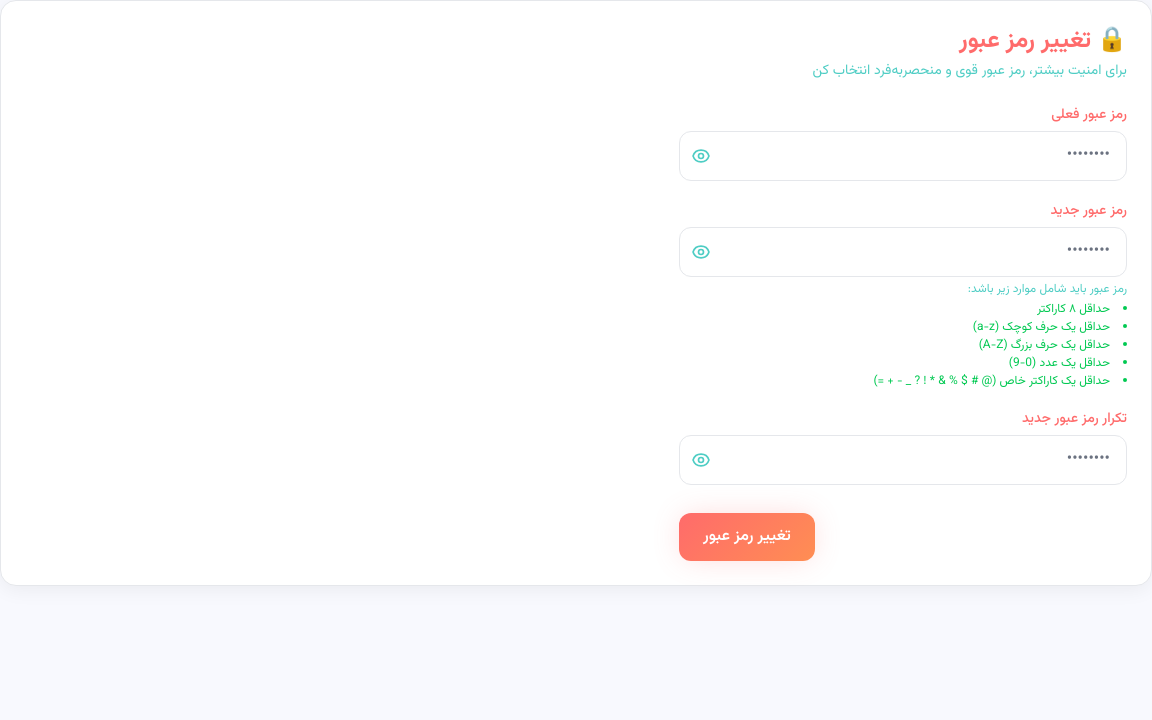
Scenario: ChangePassword Component - Unit Tests › should show validation errors for empty fields
Click the button "تغییر رمز عبور" at coordinates (747, 537), box [679,513,815,561]
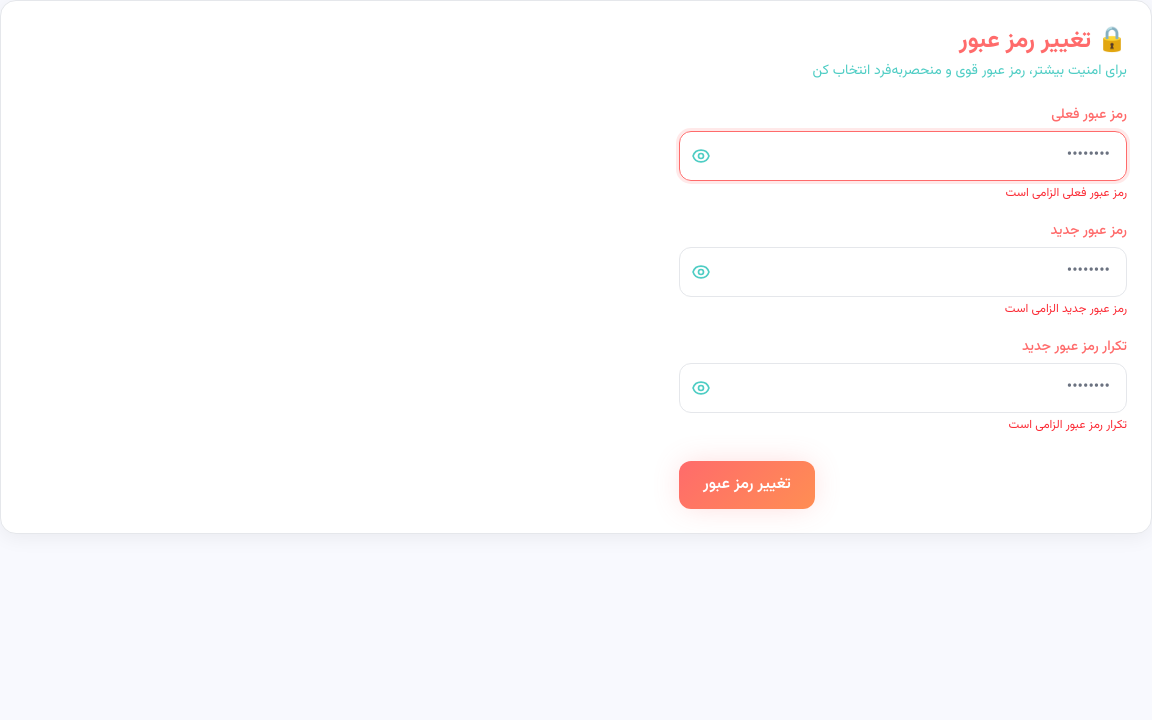
Expected: the text "رمز عبور فعلی الزامی است" is shown, [1005,184,1127,202]
Expected: the text "رمز عبور جدید الزامی است" is shown, [1005,300,1127,318]
Expected: the text "تکرار رمز عبور الزامی است" is shown, [1009,416,1127,434]
